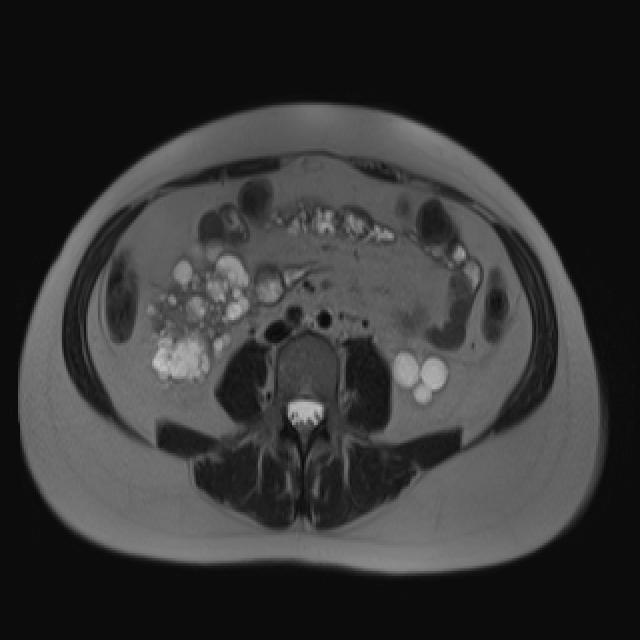sag: (148, 237, 258, 388)
sol: (389, 344, 451, 406)
